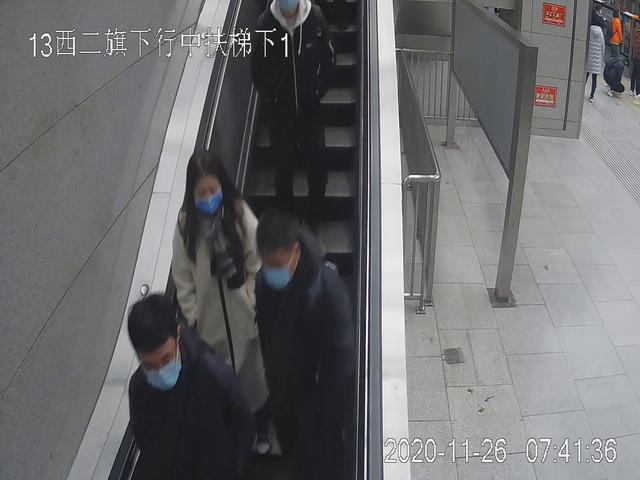person: (171, 151, 269, 462), (258, 212, 358, 480), (128, 294, 250, 480), (251, 1, 338, 234), (583, 16, 601, 100), (607, 10, 626, 73)
